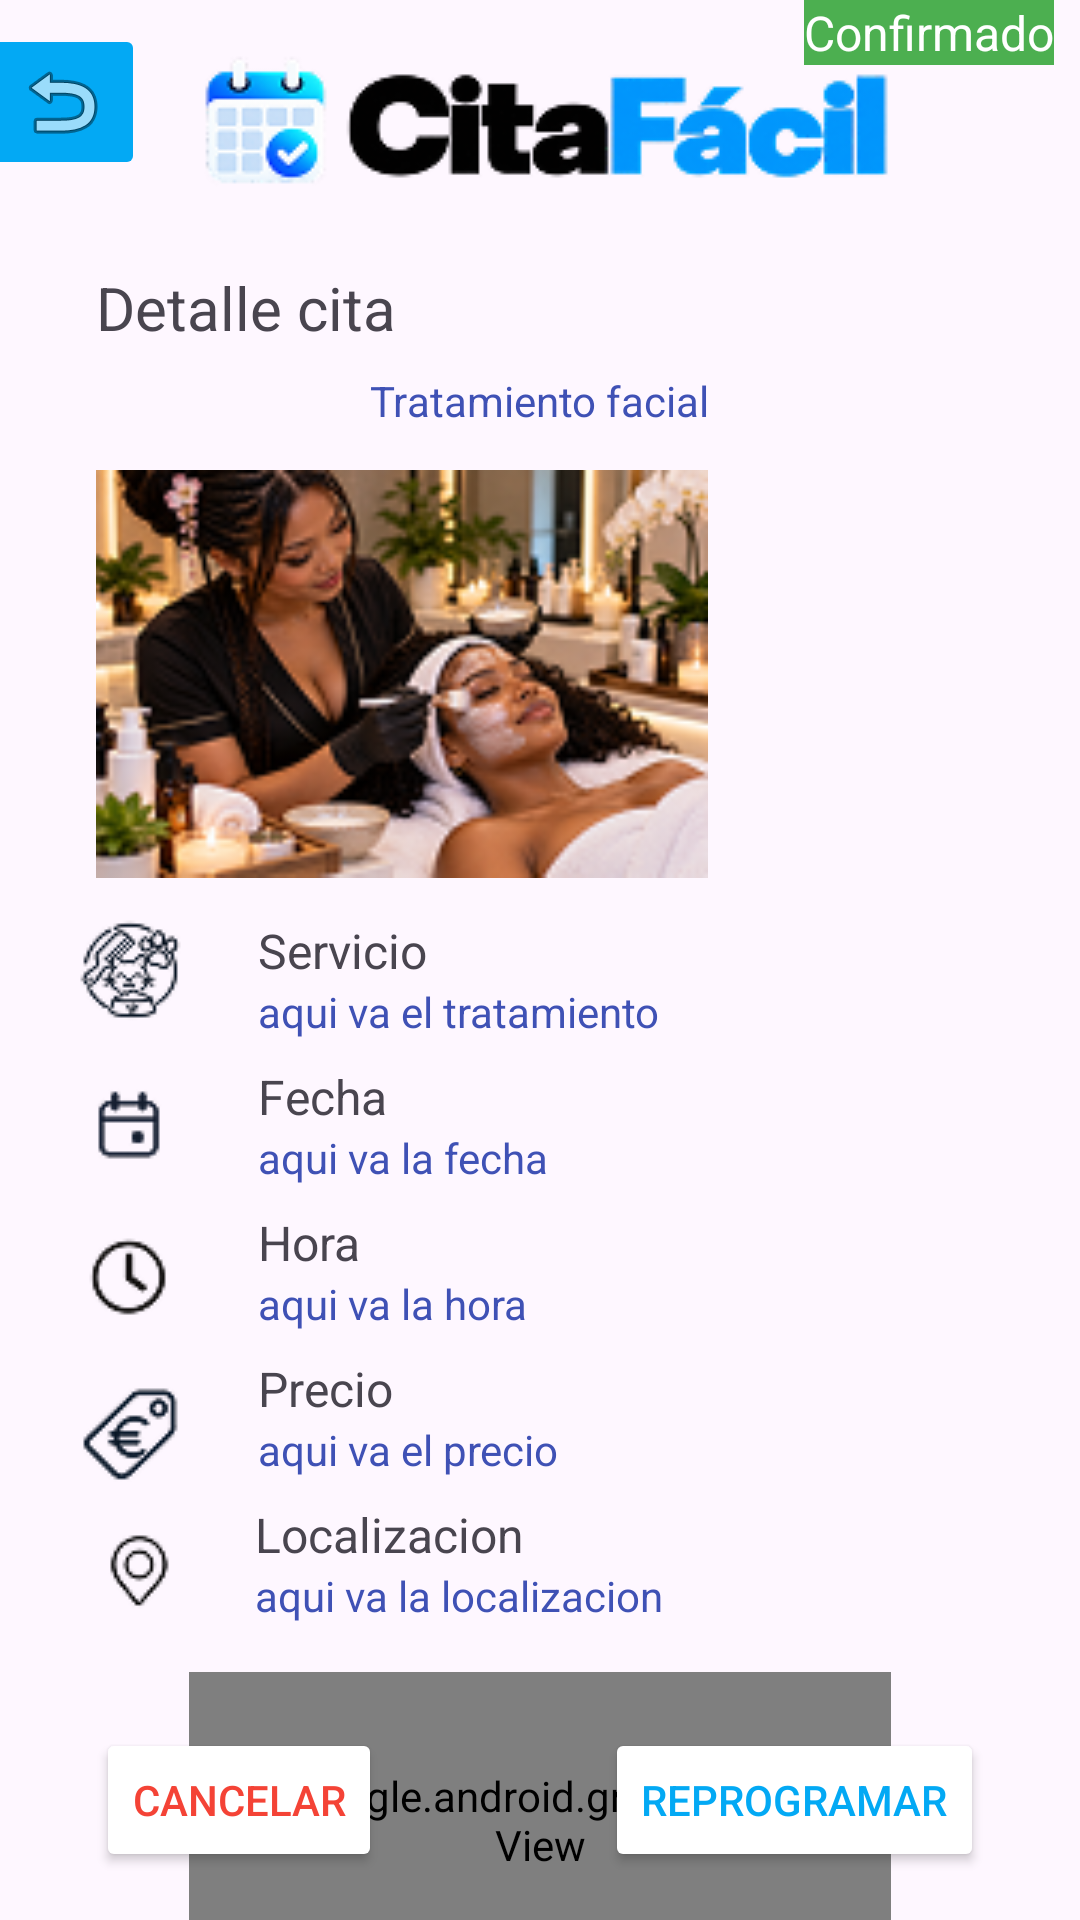

Screen size 1080x1920. Icon name, then its box in pixels as bbox=(x1, y1, x2, y2):
calendar: bbox=(98, 1091, 160, 1159)
location: bbox=(110, 1535, 169, 1606)
reloj: bbox=(91, 1239, 166, 1315)
